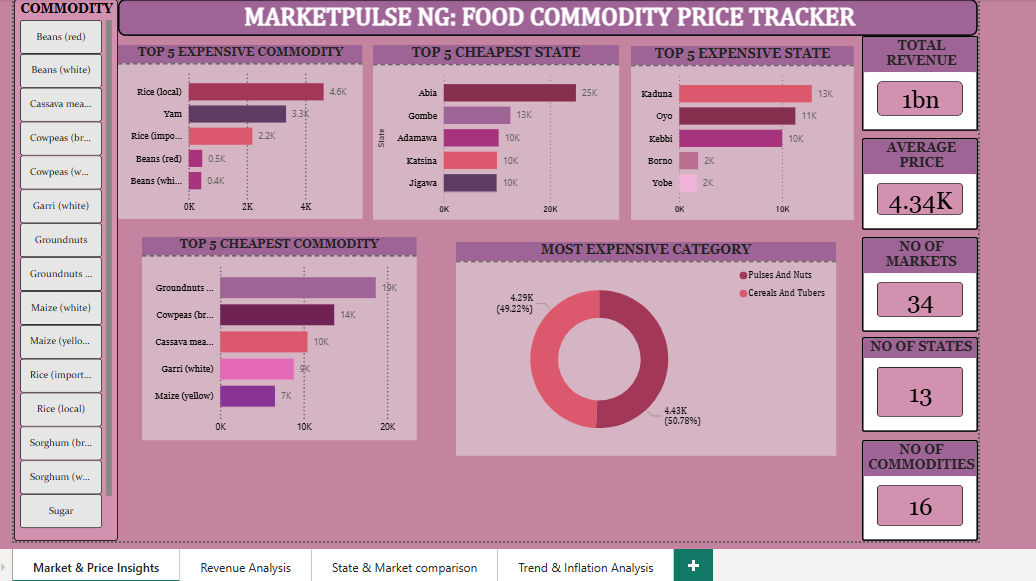

This screenshot's page, from the dashboard's own definition file:
{"tool":"powerbi","page":{"name":"Market & Price Insights","canvas":[1280,720],"ordinal":0},"visuals":[{"type":"textbox","title":"MARKETPULSE NG:  FOOD COMMODITY PRICE TRACKER ","box":[138.2,0,1142.4,49.2],"z":0},{"type":"cardVisual","title":"TOTAL REVENUE","fields":{"Data":["Sum(Commodity.Revenue)"]},"box":[1126.5,49.2,154.1,126.2],"z":1000},{"type":"cardVisual","title":"AVERAGE PRICE","fields":{"Data":["Price.Average price"]},"box":[1126.5,184.6,154.1,122.2],"z":2000},{"type":"barChart","title":"TOP 5 EXPENSIVE STATE","fields":{"Category":["Price.State"],"Y":["Price.Average price"]},"box":[819.6,62.4,296.2,231.1],"z":3000},{"type":"cardVisual","title":"NO OF MARKETS","fields":{"Data":["Region.No of markets"]},"box":[1126.5,316.2,154.1,126.2],"z":4000},{"type":"cardVisual","title":"NO OF STATES","fields":{"Data":["Region.No of States"]},"box":[1126.5,449,154.1,126.2],"z":5000},{"type":"cardVisual","title":"NO OF COMMODITIES","fields":{"Data":["Price.No of commodities"]},"box":[1126.5,585.8,154.1,134.2],"z":6000},{"type":"barChart","title":"TOP 5 EXPENSIVE COMMODITY","fields":{"Category":["Commodity.Commodity"],"Y":["Commodity.Avg price bby commodity"]},"box":[138.2,61.1,325.5,231.1],"z":7000},{"type":"donutChart","title":"MOST EXPENSIVE CATEGORY","fields":{"Category":["Commodity.Category"],"Y":["Commodity.Avg price bby commodity"]},"box":[587.2,322.8,504.8,284.3],"z":8000},{"type":"advancedSlicerVisual","title":"COMMODITY","fields":{"Values":["Commodity.Commodity"]},"box":[0,0,138.2,720],"z":9000},{"type":"barChart","title":"TOP 5 CHEAPEST COMMODITY","fields":{"Category":["Commodity.Commodity"],"Y":["Commodity.Avg price bby commodity"]},"box":[170.7,316.6,364.7,269.8],"z":11000},{"type":"barChart","title":"TOP 5 CHEAPEST STATE","fields":{"Category":["Price.State"],"Y":["Price.Average price"]},"box":[476.9,61.1,326.8,232.5],"z":12000}]}

Visuals, with their boxes on the page's 1280x720 design canvas (x1, y1, x2, y2). These are canvas units, not pixel positions in the 1036x581 screenshot, which may show the page scaled, cropped or inside an application window:
"MARKETPULSE NG:  FOOD COMMODITY PRICE TRACKER " textbox: locate(138, 0, 1281, 49)
"TOTAL REVENUE" cardVisual: locate(1126, 49, 1281, 175)
"AVERAGE PRICE" cardVisual: locate(1126, 185, 1281, 307)
"TOP 5 EXPENSIVE STATE" barChart: locate(820, 62, 1116, 294)
"NO OF MARKETS" cardVisual: locate(1126, 316, 1281, 442)
"NO OF STATES" cardVisual: locate(1126, 449, 1281, 575)
"NO OF COMMODITIES" cardVisual: locate(1126, 586, 1281, 720)
"TOP 5 EXPENSIVE COMMODITY" barChart: locate(138, 61, 464, 292)
"MOST EXPENSIVE CATEGORY" donutChart: locate(587, 323, 1092, 607)
"COMMODITY" advancedSlicerVisual: locate(0, 0, 138, 720)
"TOP 5 CHEAPEST COMMODITY" barChart: locate(171, 317, 535, 586)
"TOP 5 CHEAPEST STATE" barChart: locate(477, 61, 804, 294)
